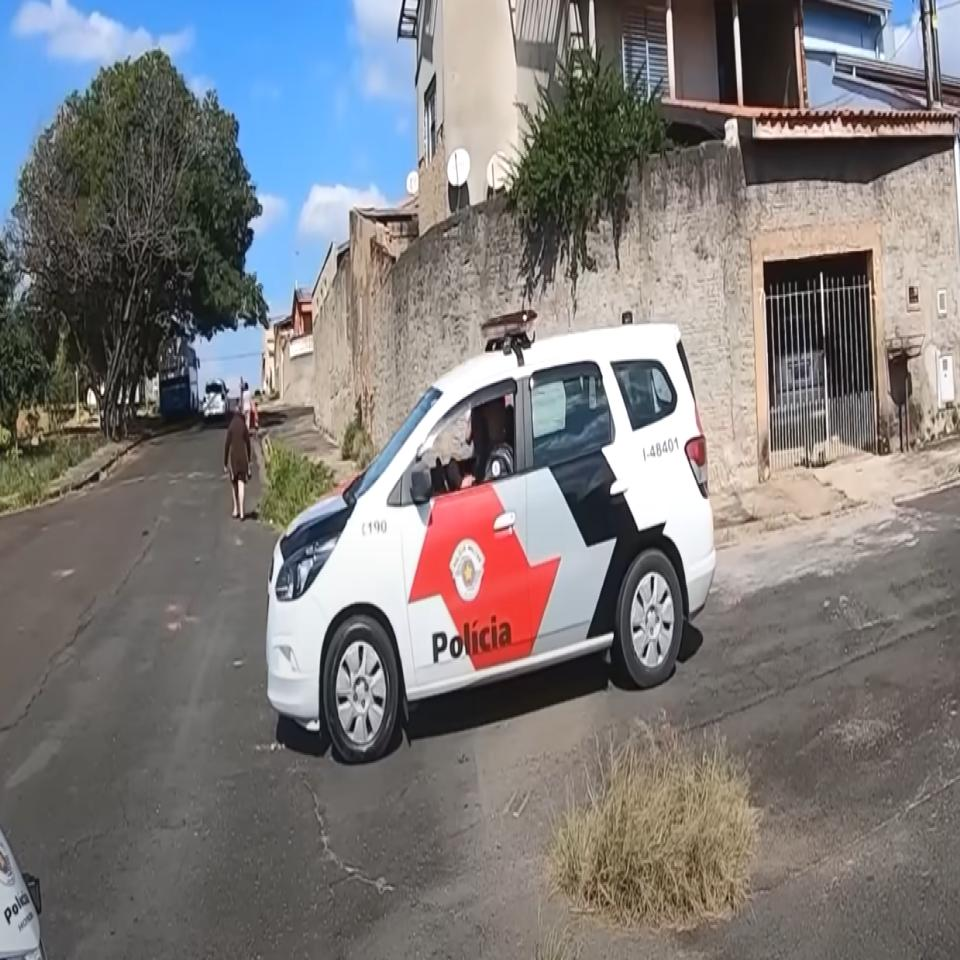viatura: (260, 304, 721, 764)
